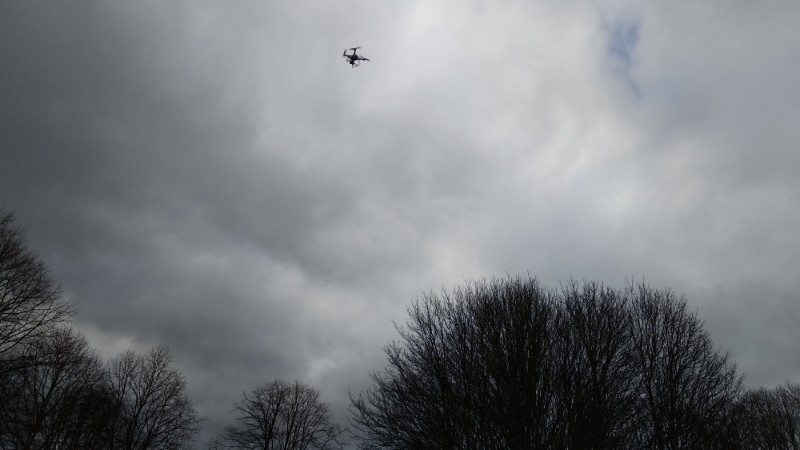drone: (343, 46, 370, 69)
